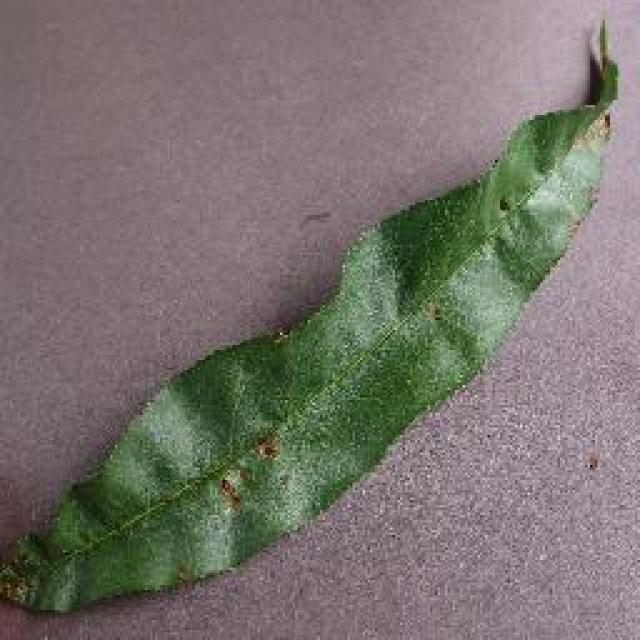Bacterial_spot: (231, 432, 296, 472)
